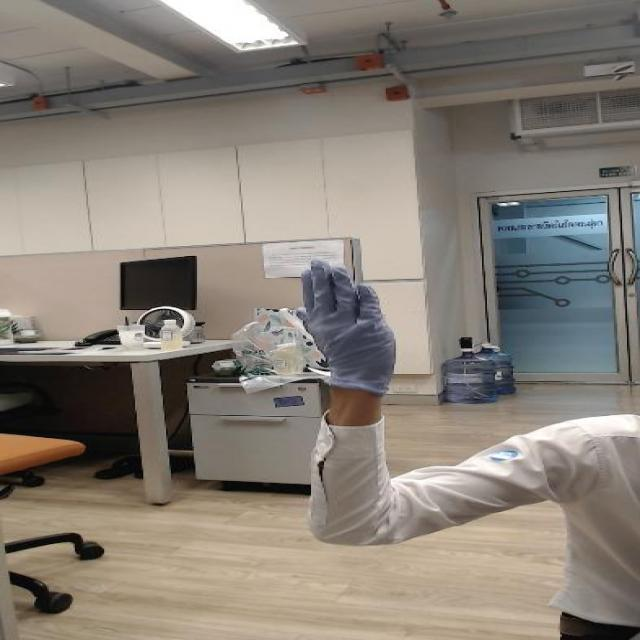Glove: (290, 254, 407, 394)
